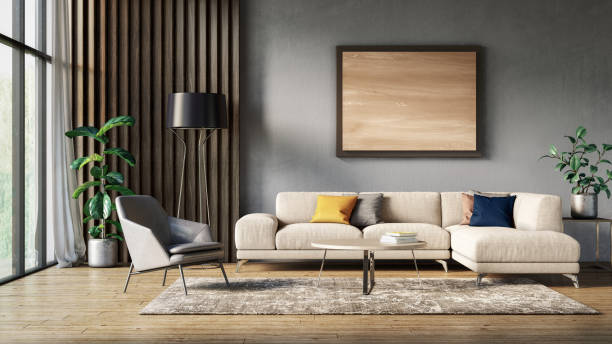chair: (114, 194, 230, 296)
floor lamp: (164, 90, 231, 224)
large plant: (63, 113, 137, 267)
side table: (565, 215, 612, 274)
small plant: (542, 123, 612, 219)
sofa: (234, 188, 583, 289)
table: (308, 236, 429, 296)
wall art: (333, 42, 486, 160)
